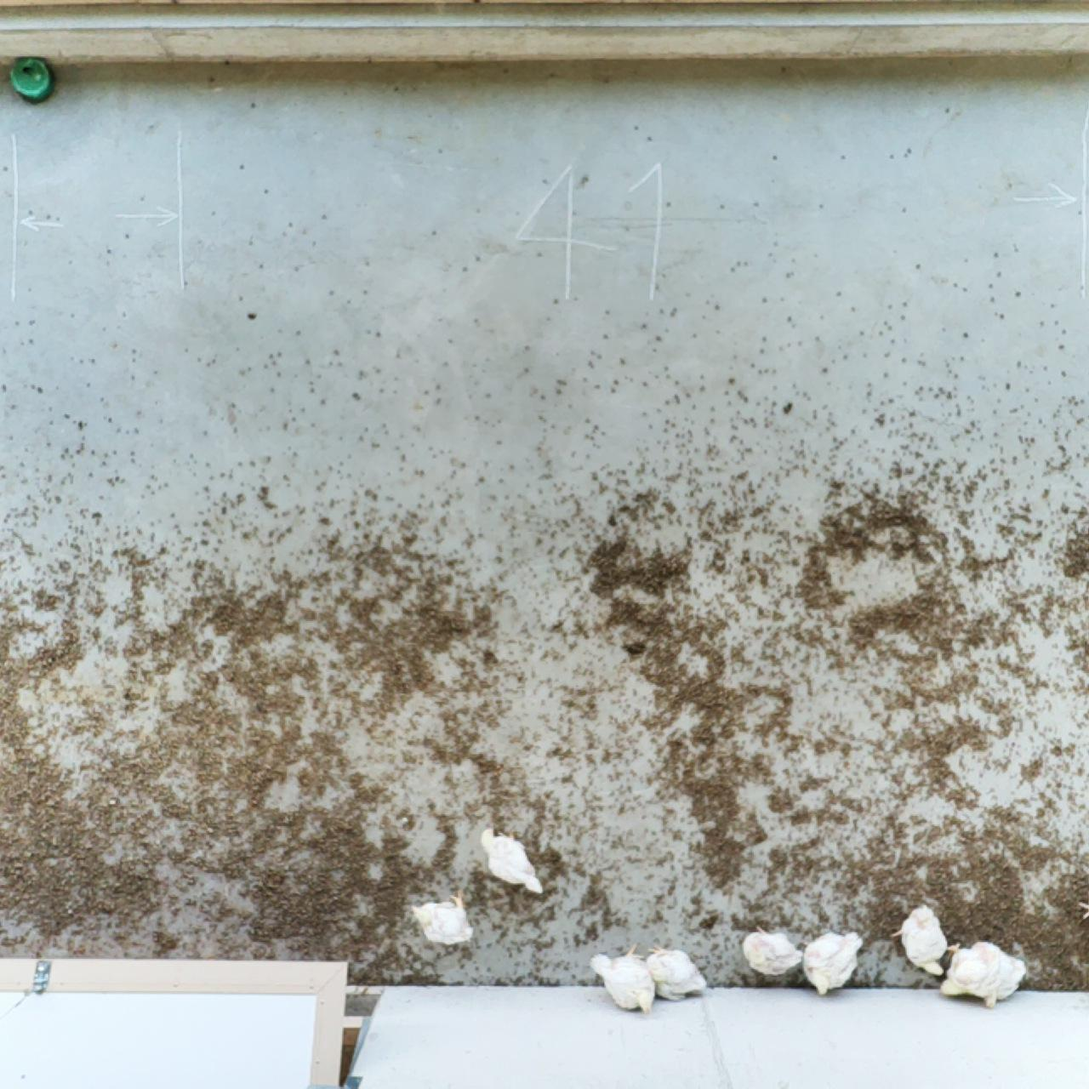chicken: (937, 938, 1029, 1013), (888, 901, 963, 981), (589, 940, 661, 1019), (478, 821, 550, 898), (404, 885, 482, 948), (801, 927, 867, 999), (642, 940, 711, 1005), (738, 921, 806, 978)
